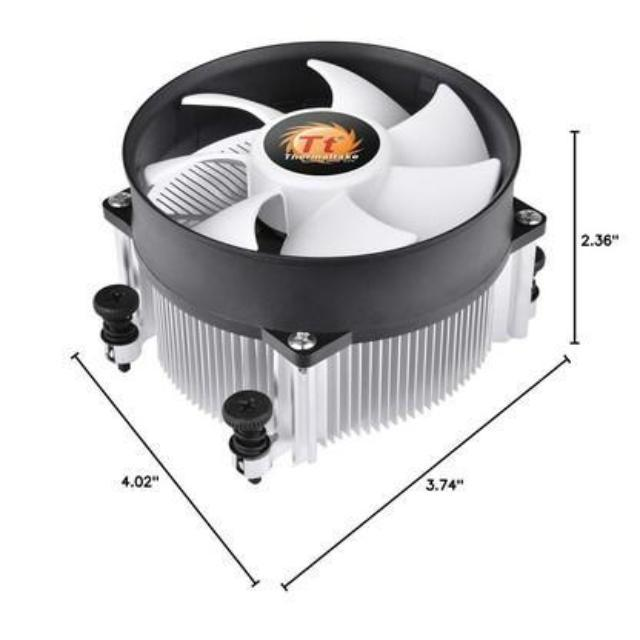CPU_Fan: (96, 38, 548, 484)
